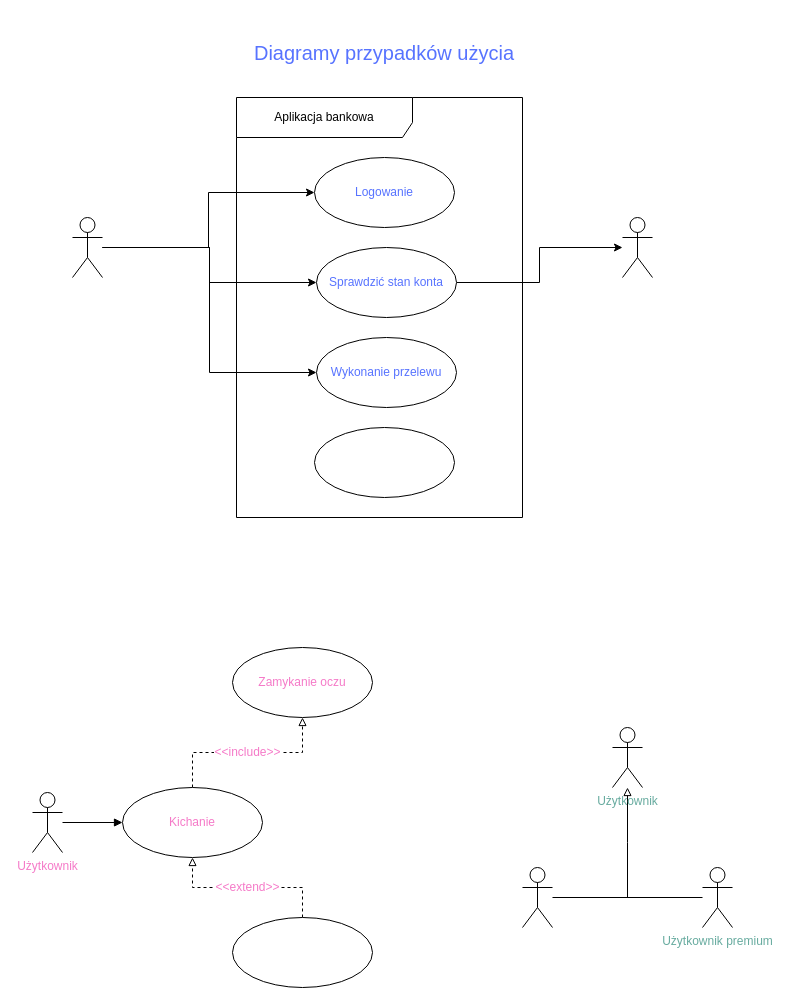
Image size: 790x1005. Some labels were removed from this diagram. Each missing label, with the centre of its shape:
Administracja kontem: (x=384, y=462)
Mówienie "przepraszam": (x=302, y=952)
Użytkownik wewn. (pracownicy, wewn. system, element systemu) Bank: (x=637, y=247)
Użytkownik zewn. (client, system (ePUAP)) Klient banku: (x=87, y=247)
Użytkownik zwykły: (x=537, y=897)
